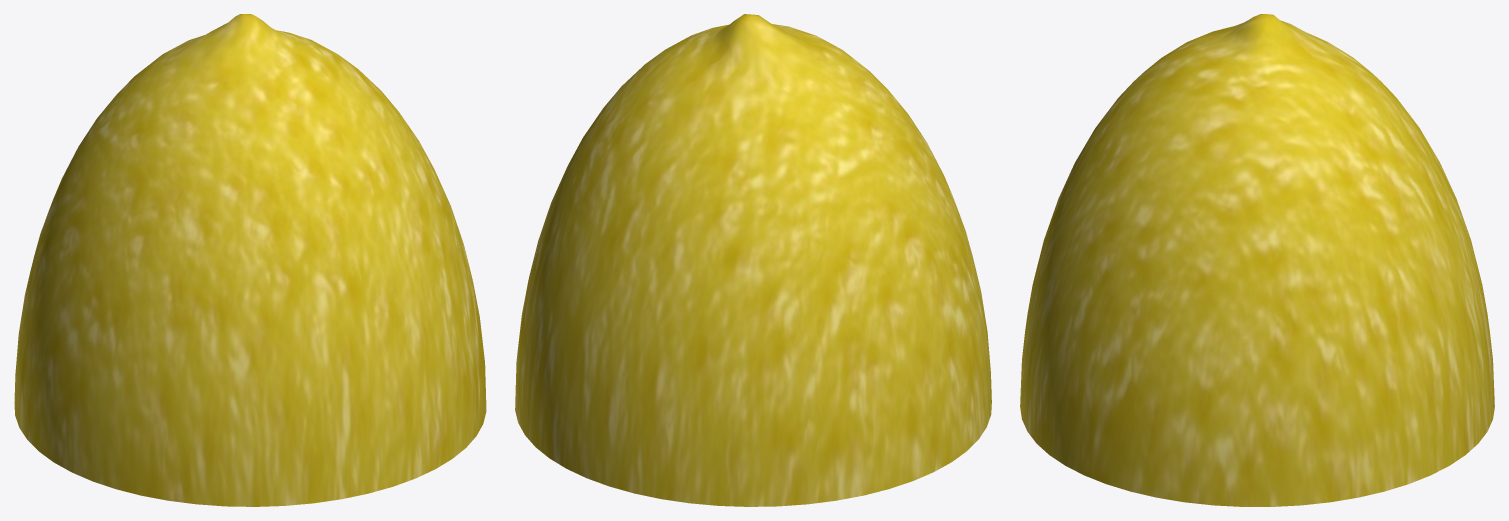
File: lemonld9.obj
3 renders of one model, left to right at view 1: azimuth 30°, elevation 25°; view 2: azimuth 150°, elevation 25°; view 3: azimuth 270°, elevation 25°, orthographic.
Parts seen in each view (by area): view 1: GeoSphere02; view 2: GeoSphere02; view 3: GeoSphere02.
Part boxes in pixels (<box>): GeoSphere02: <box>14,14,486,506</box>; GeoSphere02: <box>515,14,991,506</box>; GeoSphere02: <box>1020,14,1494,506</box>.
Size of the model in its own units: 95.84 by 87.53 by 96.03.
1 material, 1 textured.
